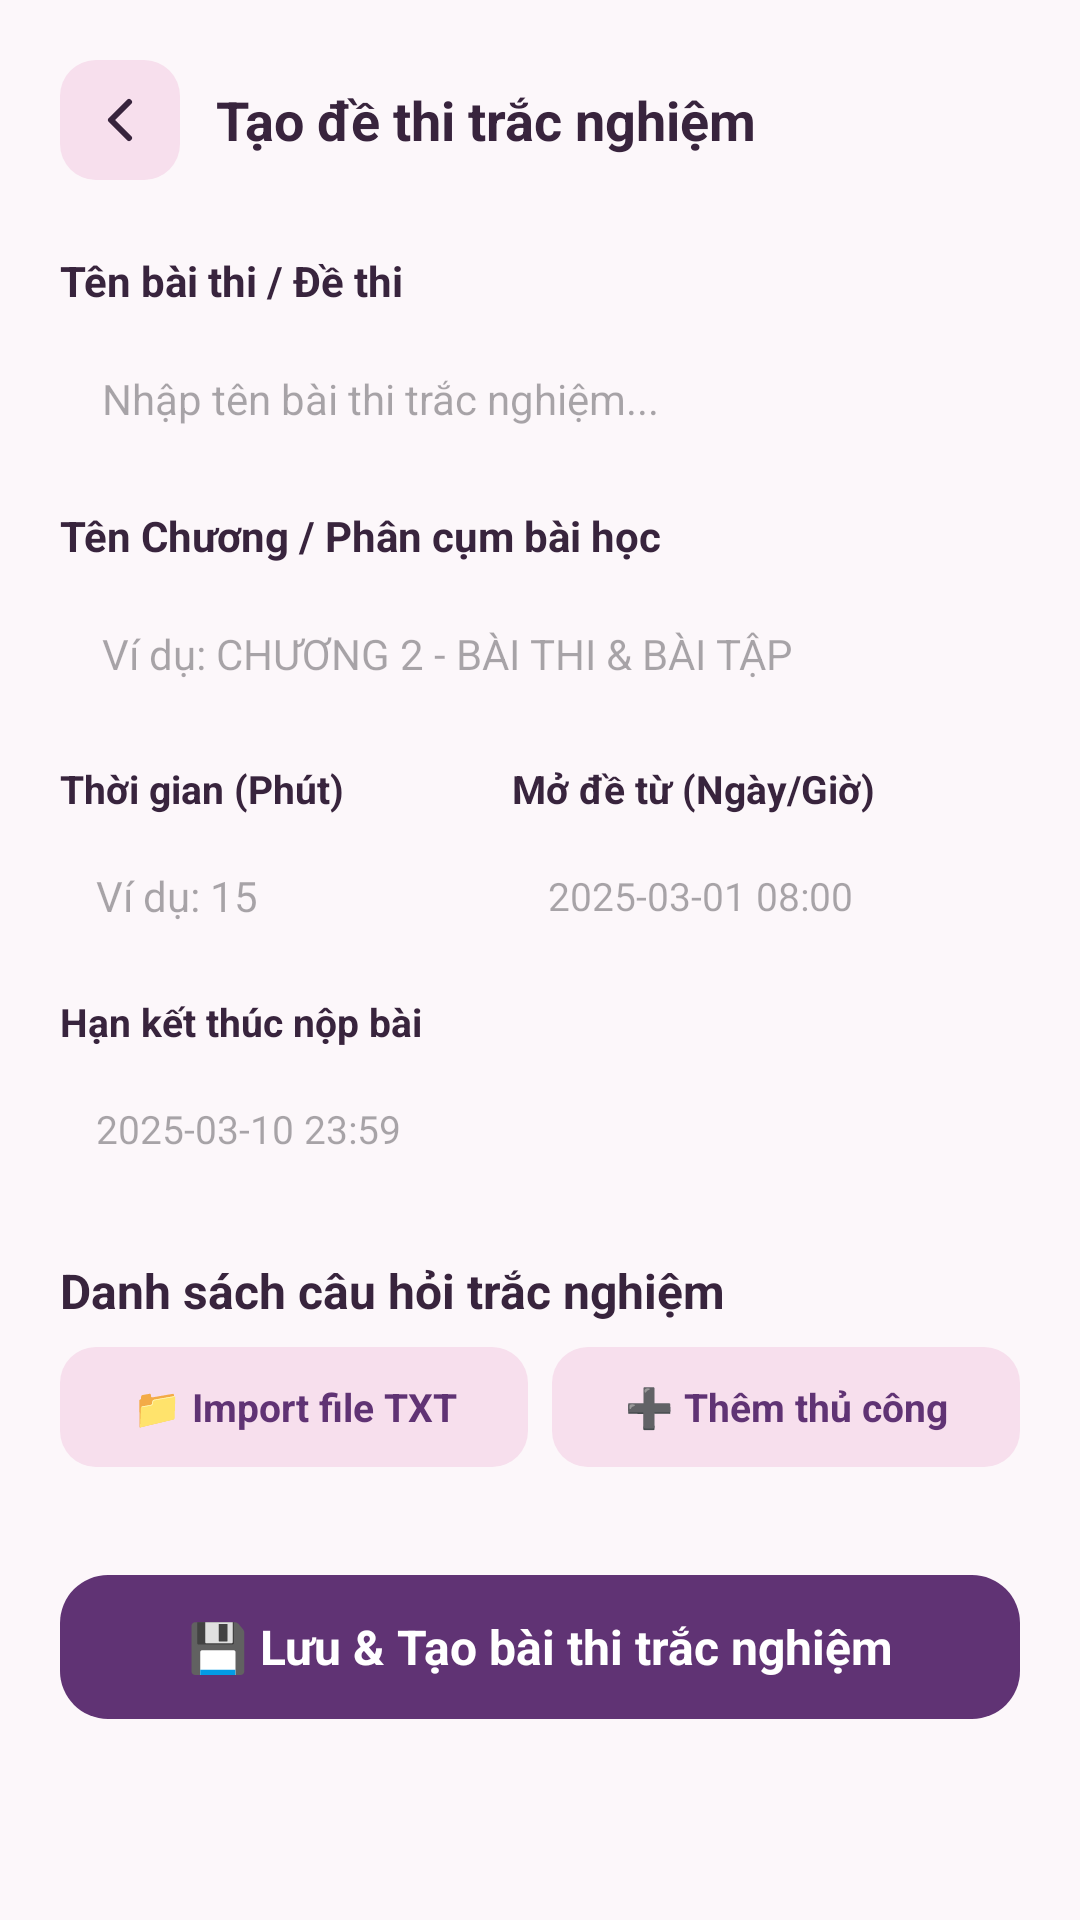

Icons on this 1080*1920 Android screen, each with the point to tap as (x=x, y=y):
Quay lại: (x=120, y=120)
